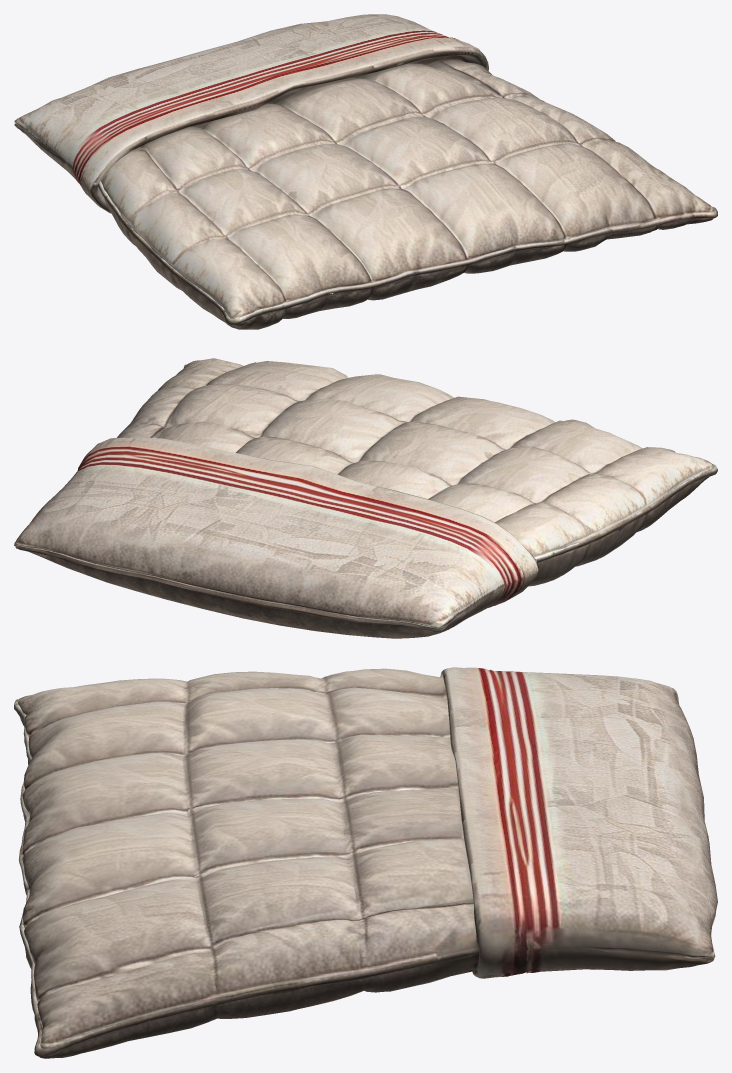
Rendered from act1-a24-5-turned-down-quilt.glb.
The picture shows the model from 3 angles, top to bottom: view 1: azimuth 30°, elevation 25°; view 2: azimuth 150°, elevation 25°; view 3: azimuth 270°, elevation 25°; orthographic projection. The views are drawn at different scales.
Visible parts, largest first — view 1: act1-a24-5-turned-down-quilt; view 2: act1-a24-5-turned-down-quilt; view 3: act1-a24-5-turned-down-quilt.
Part boxes in pixels (left/top/right/bottom): act1-a24-5-turned-down-quilt: left=14, top=14, right=717, bottom=329; act1-a24-5-turned-down-quilt: left=14, top=358, right=717, bottom=638; act1-a24-5-turned-down-quilt: left=14, top=667, right=717, bottom=1058.
Size of the model in its own units: 3 by 0.6016 by 2.69.
Materials: 1 (1 with a texture image).
